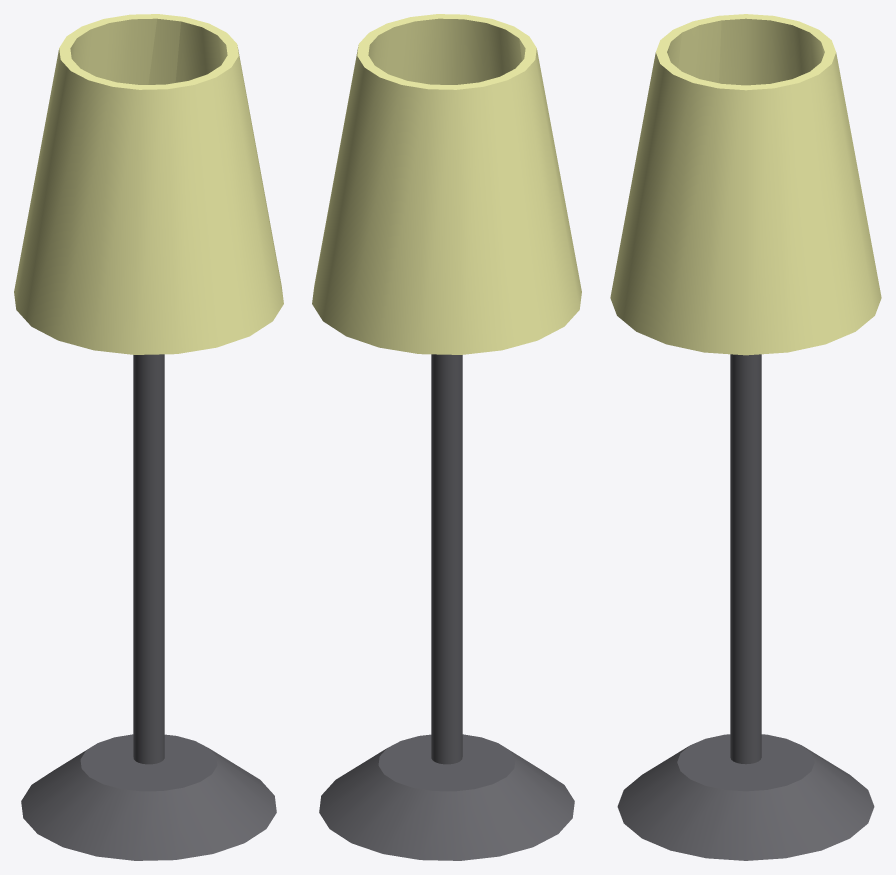
File: standLamp_fbx_colored.fbx
3 views of the same model, side by side, from view 1: azimuth 30°, elevation 25°; view 2: azimuth 150°, elevation 25°; view 3: azimuth 270°, elevation 25° (orthographic).
Visible parts, largest first — view 1: polySurface2, pCylinder7, pCylinder6; view 2: polySurface2, pCylinder7, pCylinder6; view 3: polySurface2, pCylinder7, pCylinder6.
Part boxes in pixels (x1,y1,x2,y2): polySurface2: (14, 14, 283, 354); pCylinder7: (21, 734, 276, 860); pCylinder6: (133, 354, 164, 764); polySurface2: (312, 14, 581, 354); pCylinder7: (319, 734, 574, 860); pCylinder6: (431, 354, 462, 764); polySurface2: (610, 14, 881, 355); pCylinder7: (617, 734, 874, 860); pCylinder6: (730, 354, 761, 764).
Bounding box in the file's own units: 2 × 6.14 × 2.
